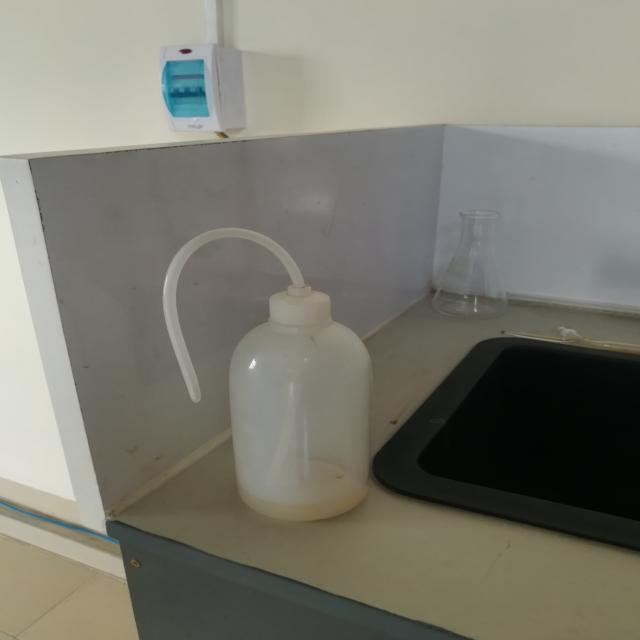Wash_Bottle: (132, 200, 440, 551)
